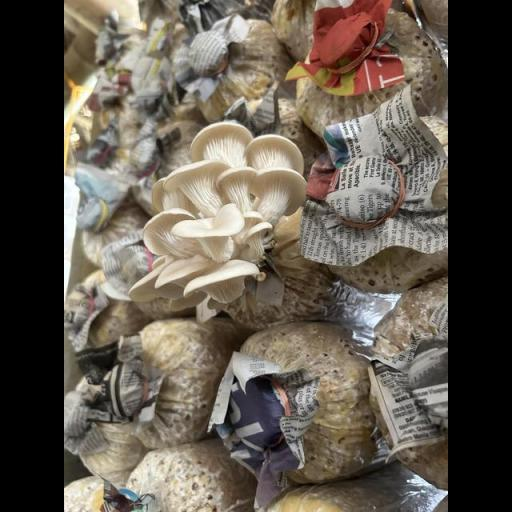White Oyster Mushroom: (132, 116, 318, 319)
